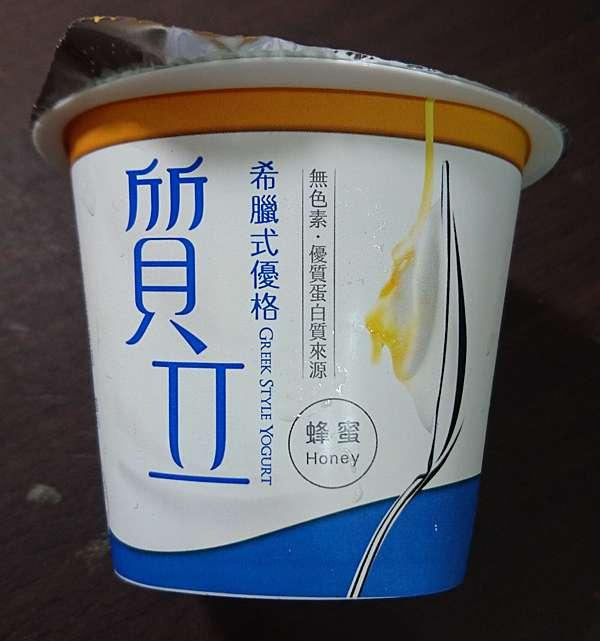plastic: (33, 17, 564, 598)
